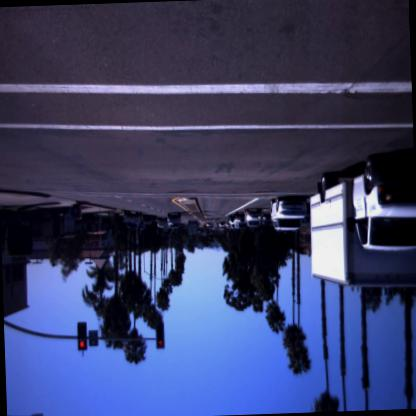trafficlight: (72, 312, 91, 356), (150, 312, 167, 356)
